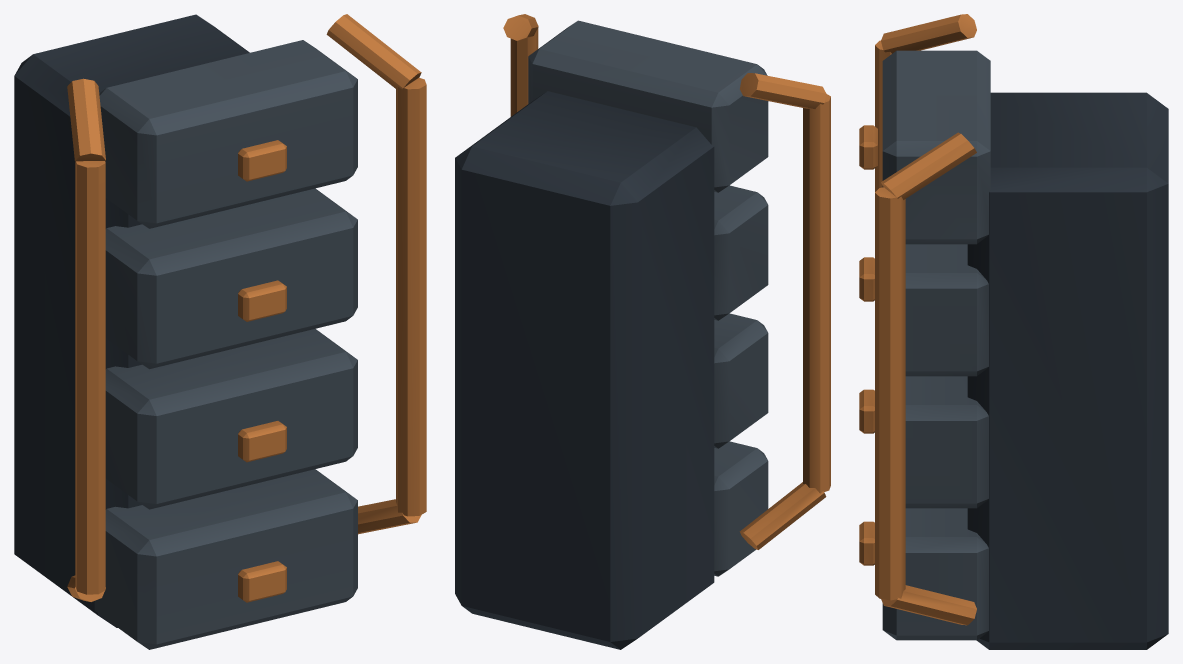
Rendered from power.glb.
3 views of the same model, side by side, from view 1: azimuth 30°, elevation 25°; view 2: azimuth 150°, elevation 25°; view 3: azimuth 270°, elevation 25° (orthographic). The views are drawn at different scales.
Visible parts, largest first — view 1: QX_battery_spine, QX_swap_cell.003, QX_swap_cell, QX_swap_cell.001, QX_swap_cell.002, QX_lifting_handle_01, QX_lifting_handle_01.001, QX_lifting_handle_02.001, QX_lifting_handle_02, QX_latch, QX_latch.001, QX_latch.002 (+2 smaller); view 2: QX_battery_spine, QX_swap_cell.003, QX_lifting_handle_01, QX_swap_cell.001, QX_swap_cell.002, QX_swap_cell, QX_lifting_handle_00, QX_lifting_handle_02, QX_lifting_handle_01.001, QX_lifting_handle_02.001; view 3: QX_battery_spine, QX_swap_cell.003, QX_lifting_handle_01.001, QX_swap_cell.001, QX_swap_cell.002, QX_swap_cell, QX_lifting_handle_02.001, QX_lifting_handle_02, QX_lifting_handle_00.001, QX_lifting_handle_01, QX_latch.003, QX_latch (+2 smaller).
Part boxes in pixels (box(x1,y1,x2,y2)): QX_battery_spine: box(14, 14, 249, 627); QX_swap_cell.003: box(99, 40, 357, 228); QX_swap_cell: box(94, 469, 357, 649); QX_swap_cell.001: box(105, 329, 357, 509); QX_swap_cell.002: box(105, 188, 357, 369); QX_lifting_handle_01: box(75, 161, 105, 594); QX_lifting_handle_01.001: box(396, 77, 426, 516); QX_lifting_handle_02.001: box(326, 14, 421, 89); QX_lifting_handle_02: box(67, 78, 105, 162); QX_latch: box(238, 561, 286, 602); QX_latch.001: box(238, 421, 286, 462); QX_latch.002: box(238, 280, 286, 321); QX_battery_spine: box(455, 91, 714, 649); QX_swap_cell.003: box(528, 20, 768, 192); QX_lifting_handle_01: box(803, 94, 830, 493); QX_swap_cell.001: box(714, 313, 768, 448); QX_swap_cell.002: box(714, 185, 768, 320); QX_swap_cell: box(714, 441, 768, 576); QX_lifting_handle_00: box(739, 482, 826, 549); QX_lifting_handle_02: box(740, 73, 826, 108); QX_lifting_handle_01.001: box(510, 25, 538, 116); QX_lifting_handle_02.001: box(503, 14, 538, 40); QX_battery_spine: box(967, 92, 1168, 649); QX_swap_cell.003: box(882, 50, 990, 244); QX_lifting_handle_01.001: box(875, 187, 905, 600); QX_swap_cell.001: box(905, 376, 988, 508); QX_swap_cell.002: box(905, 244, 988, 376); QX_swap_cell: box(882, 508, 988, 640); QX_lifting_handle_02.001: box(881, 132, 976, 199); QX_lifting_handle_02: box(881, 14, 976, 53); QX_lifting_handle_00.001: box(881, 585, 976, 625); QX_lifting_handle_01: box(875, 40, 891, 191); QX_latch.003: box(859, 125, 877, 169); QX_latch: box(859, 521, 874, 565).
Bounding box in the file's own units: 0.2444 × 0.3844 × 0.2.
